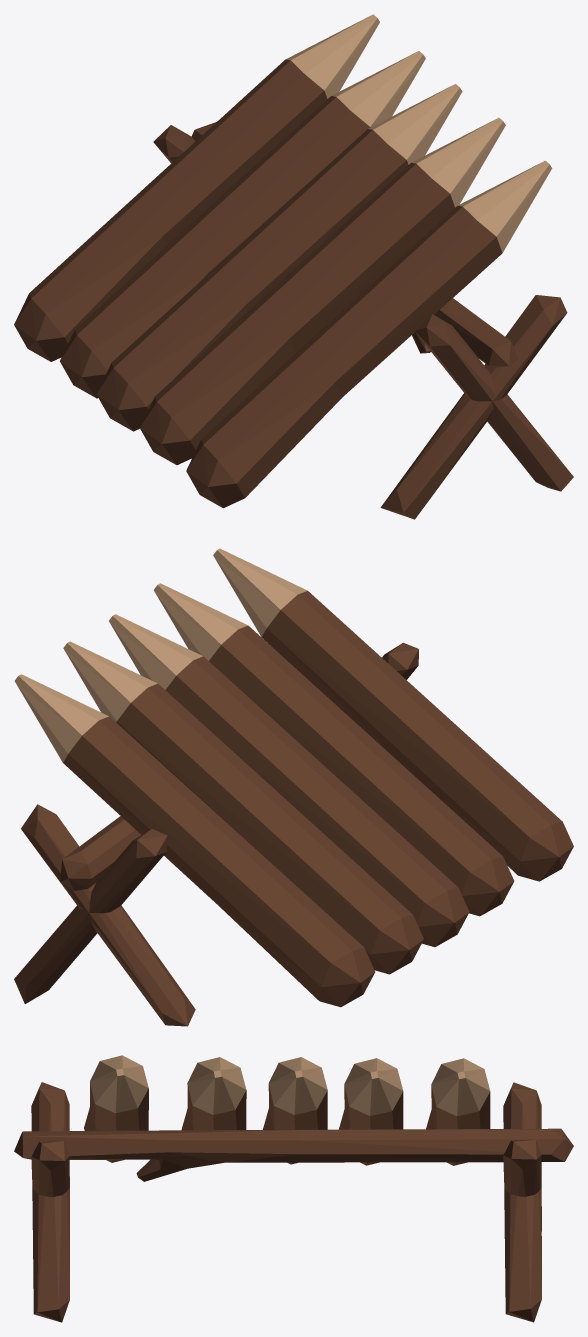
File: Paling.dae
3 views of the same model, one above another, from view 1: azimuth 30°, elevation 25°; view 2: azimuth 150°, elevation 25°; view 3: azimuth 270°, elevation 25° (orthographic). The views are drawn at different scales.
Visible parts, largest first — view 1: Cube; view 2: Cube; view 3: Cube.
Boxes of the visible parts, x1,y1,x2,y2 form: Cube: [14, 14, 573, 519]; Cube: [14, 548, 573, 1026]; Cube: [14, 1055, 573, 1322].
Bounding box in the file's own units: 2.91 × 4.14 × 2.22.
1 material, 1 textured.
